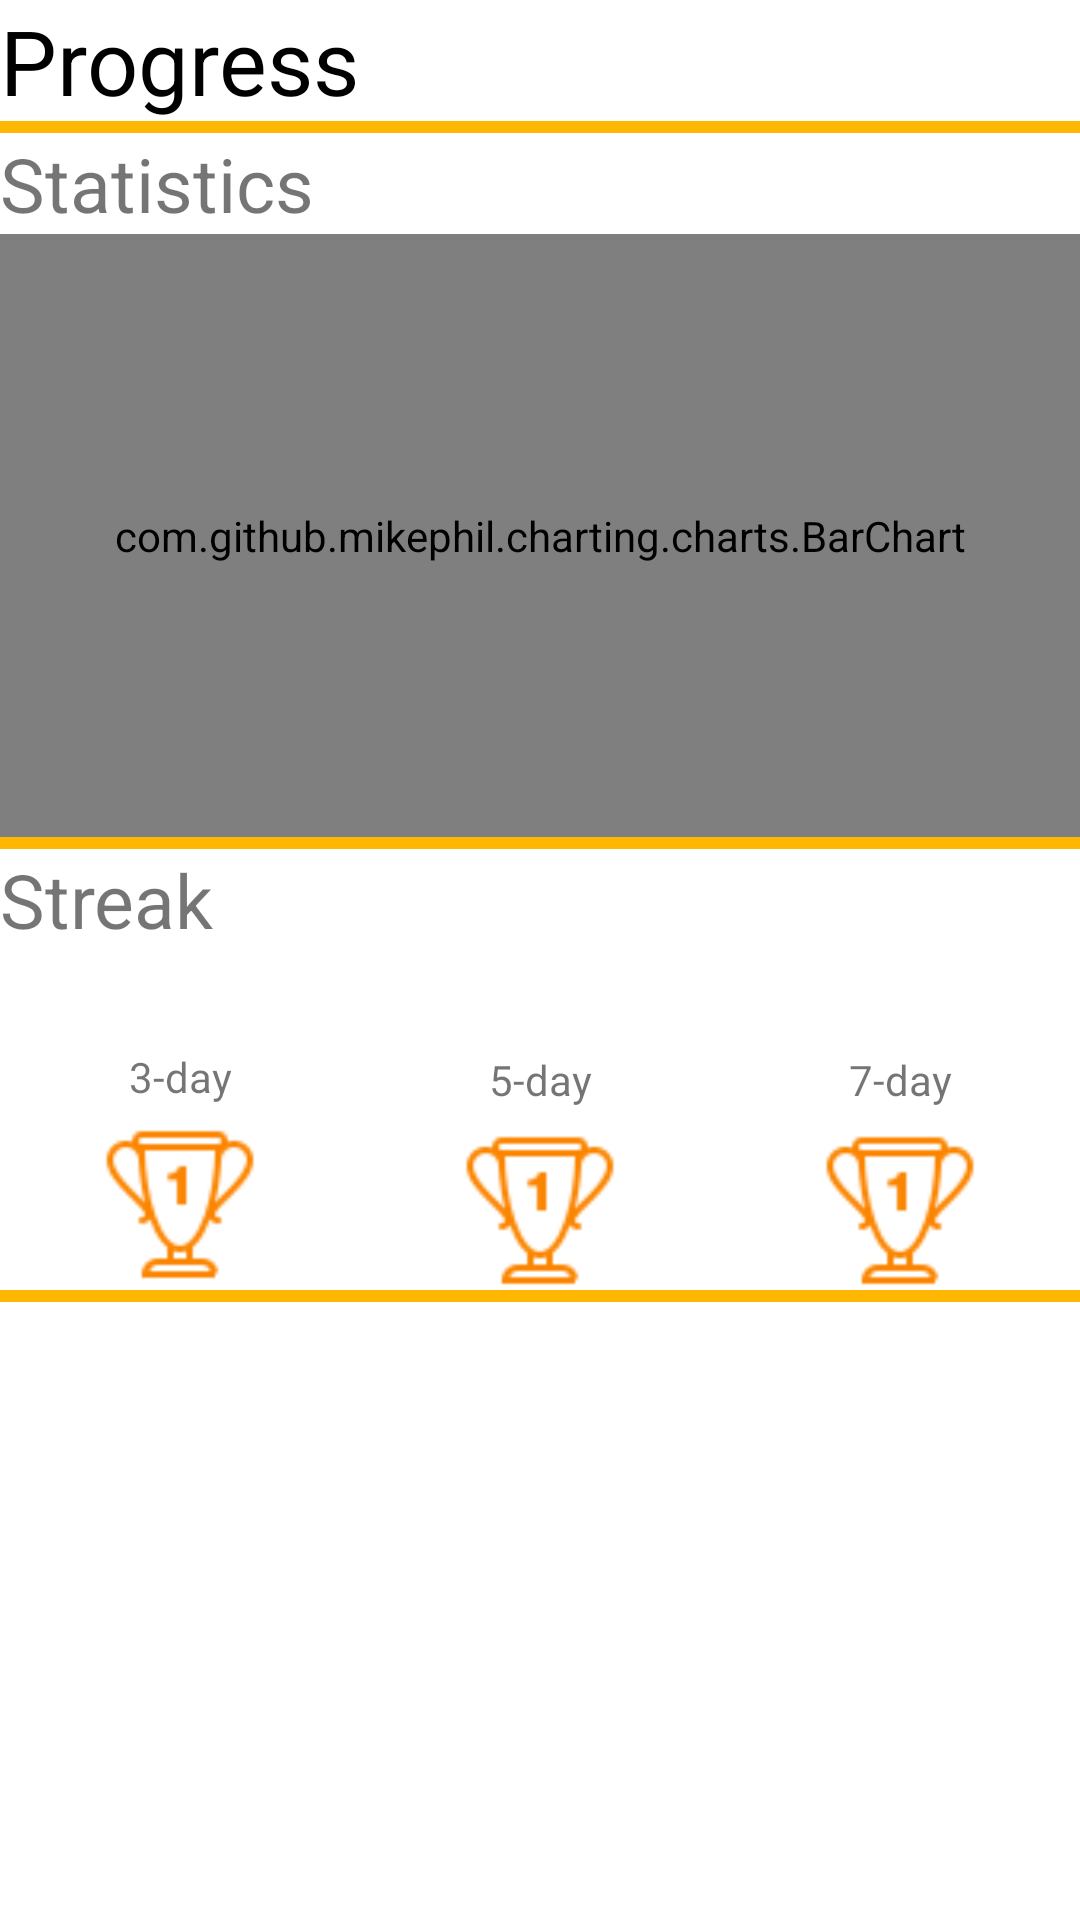

Screen size 1080w x 1920h. Icon name, then its box in pixels as (x1, y1, x2, y2):
trophy: (106, 1130, 254, 1279), (466, 1136, 614, 1285), (826, 1136, 974, 1285)
